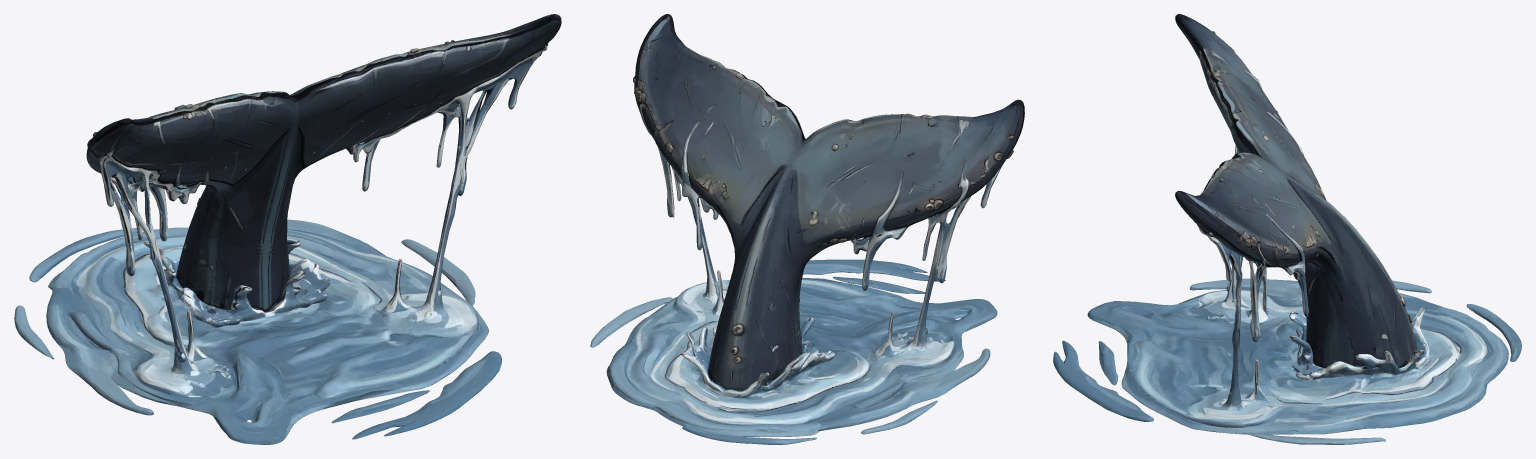
Rendered from whale_tail.glb.
The picture shows the model from 3 angles, left to right: view 1: azimuth 30°, elevation 25°; view 2: azimuth 150°, elevation 25°; view 3: azimuth 270°, elevation 25°; orthographic projection. The views are drawn at different scales.
Bounding box in the file's own units: 1.82 × 1.18 × 1.9.
Materials: 1 (1 with a texture image).
